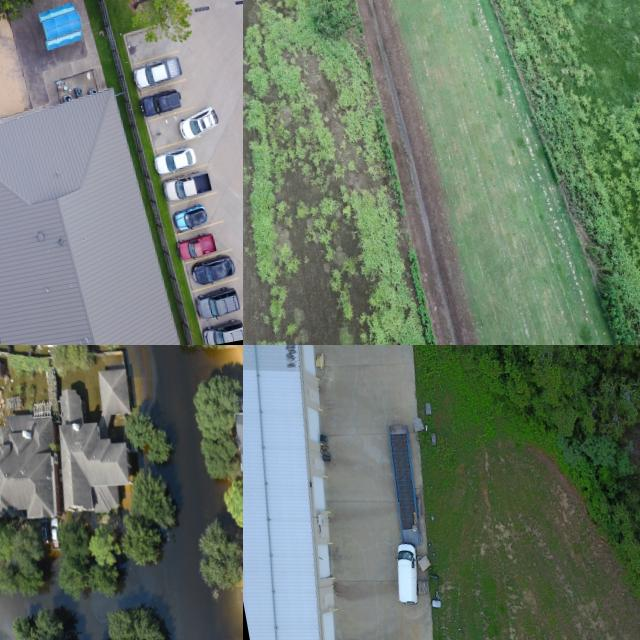fire: (74, 345, 243, 640), (0, 591, 64, 640)
